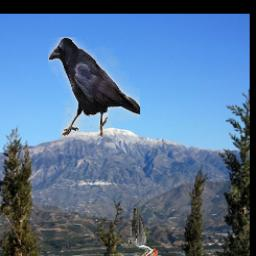Crow: (48, 37, 140, 137)
Woodpecker: (129, 207, 158, 256)
